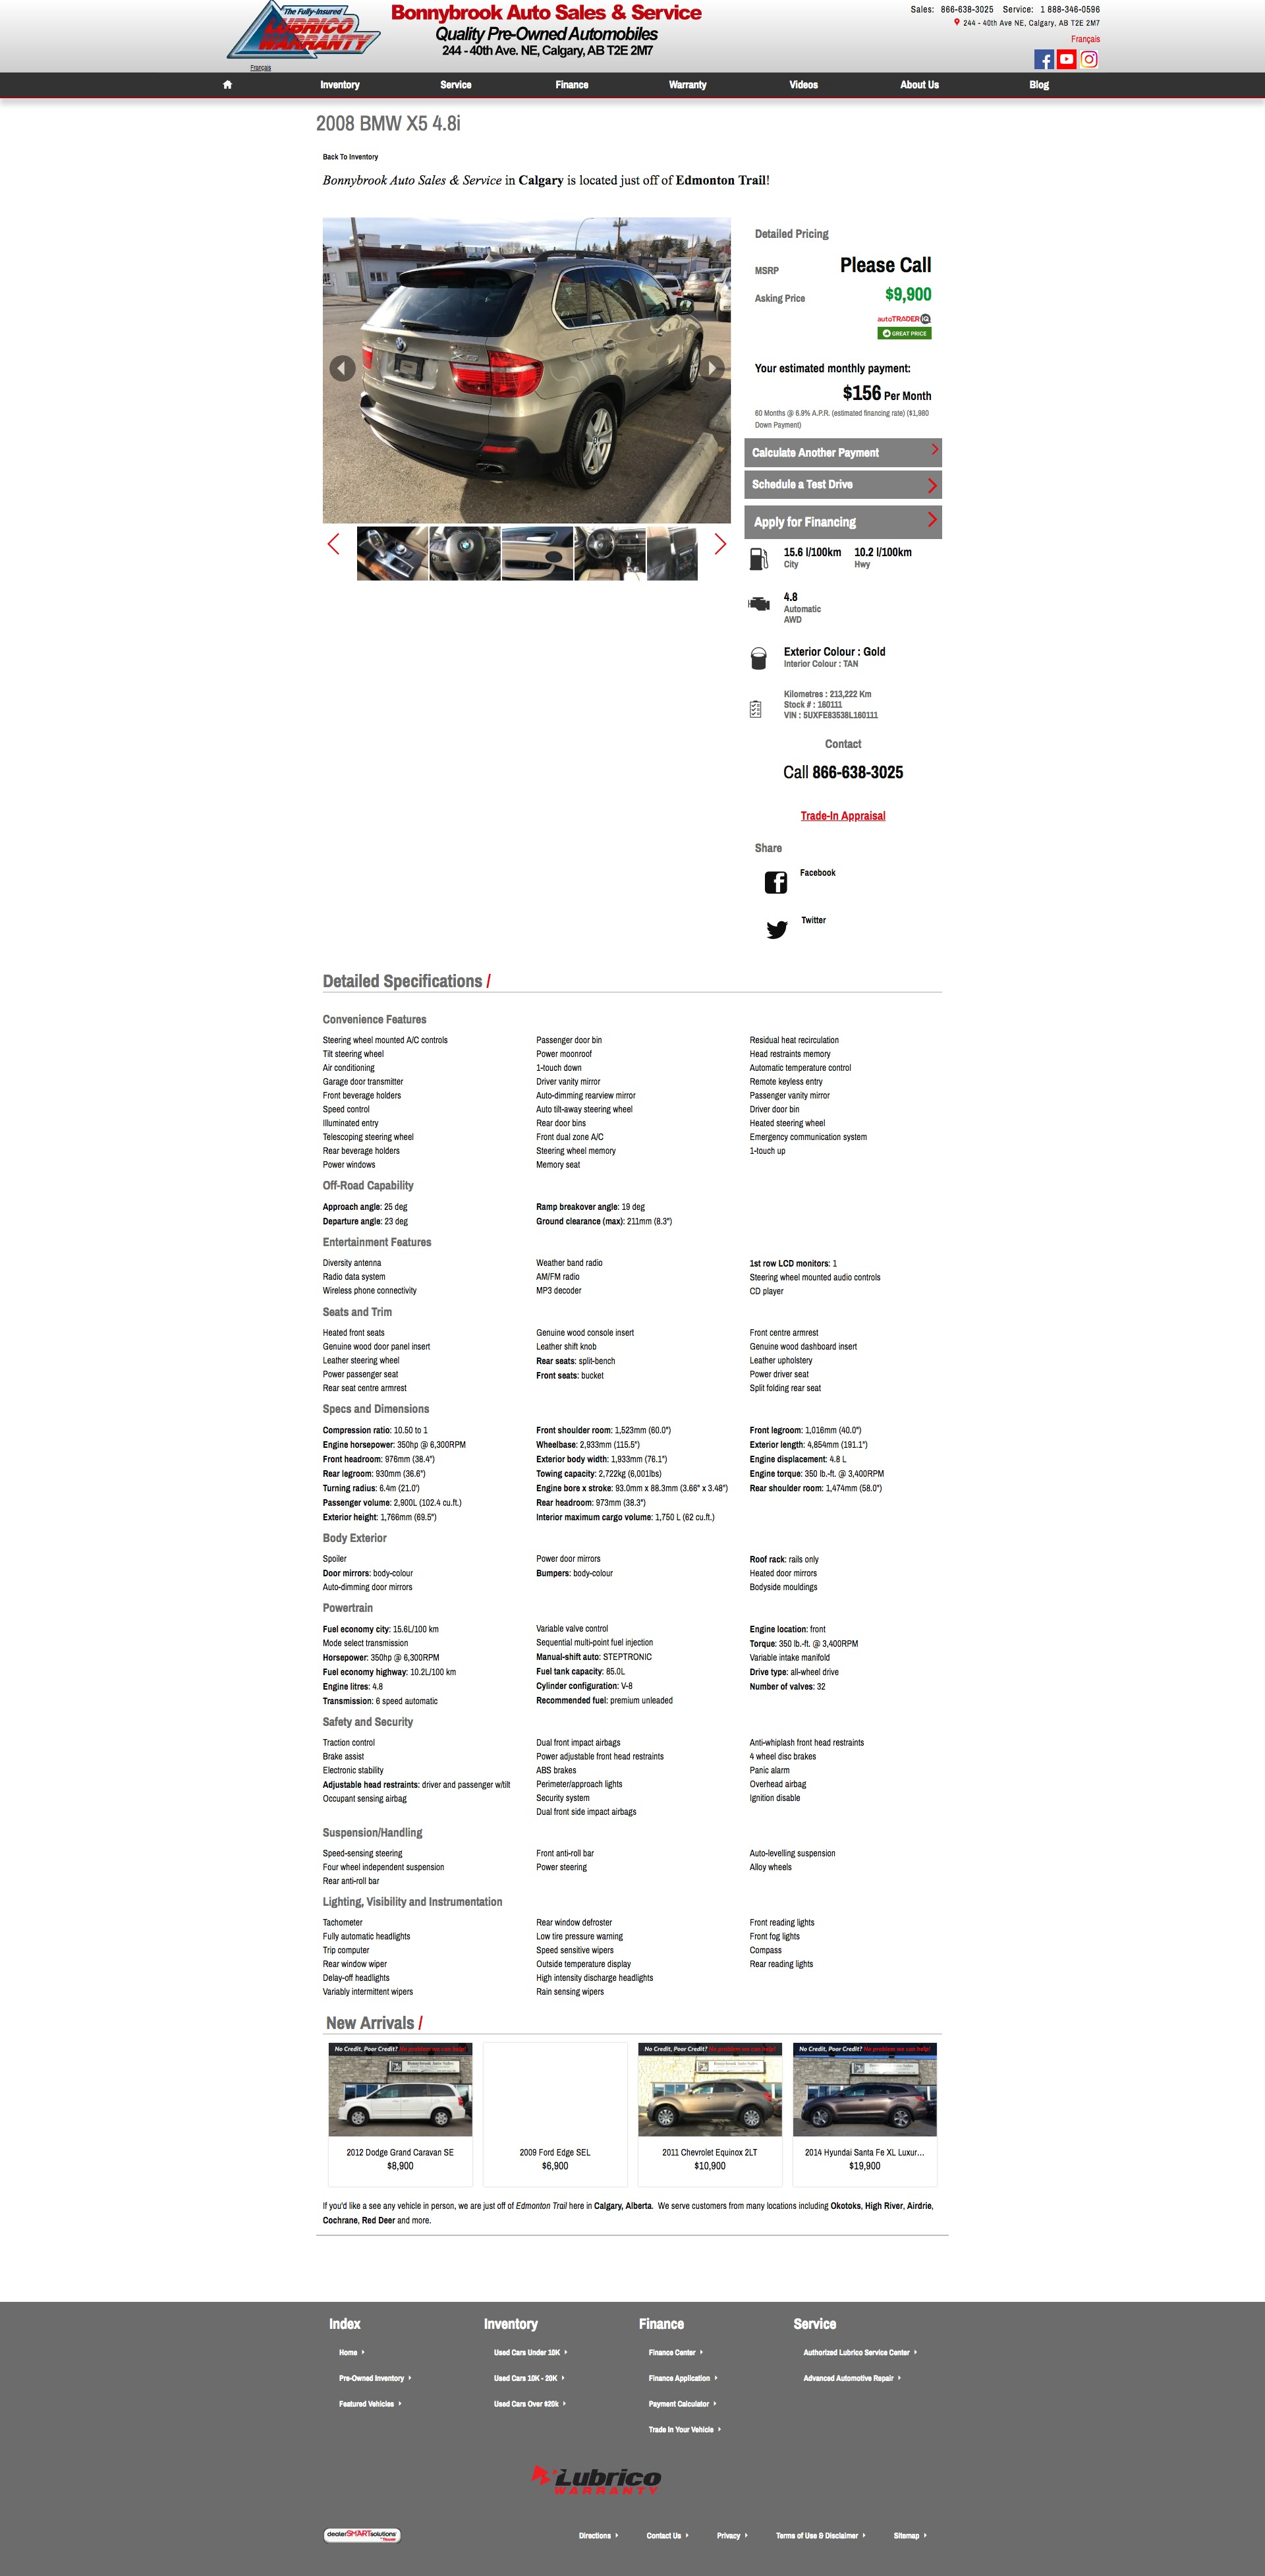car: (713, 532, 728, 557)
